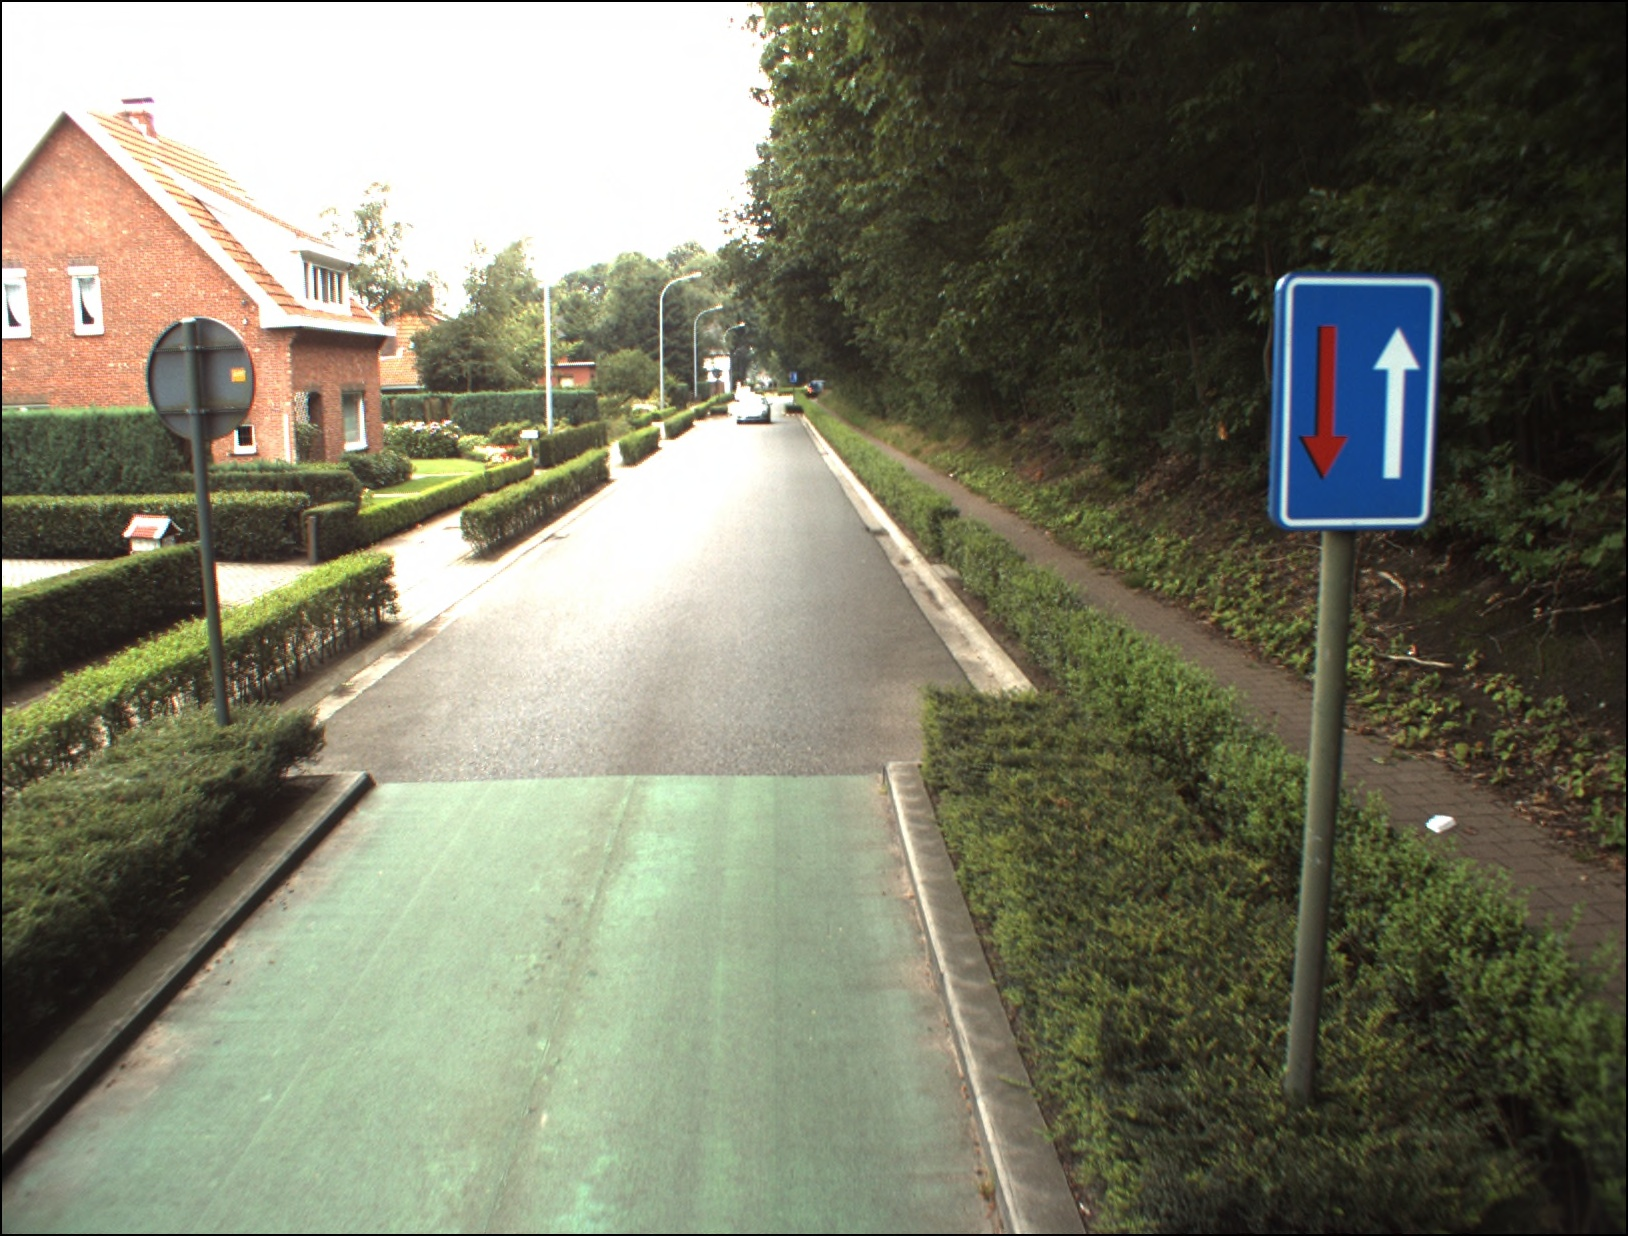roadnarrow1: (1272, 274, 1424, 527)
